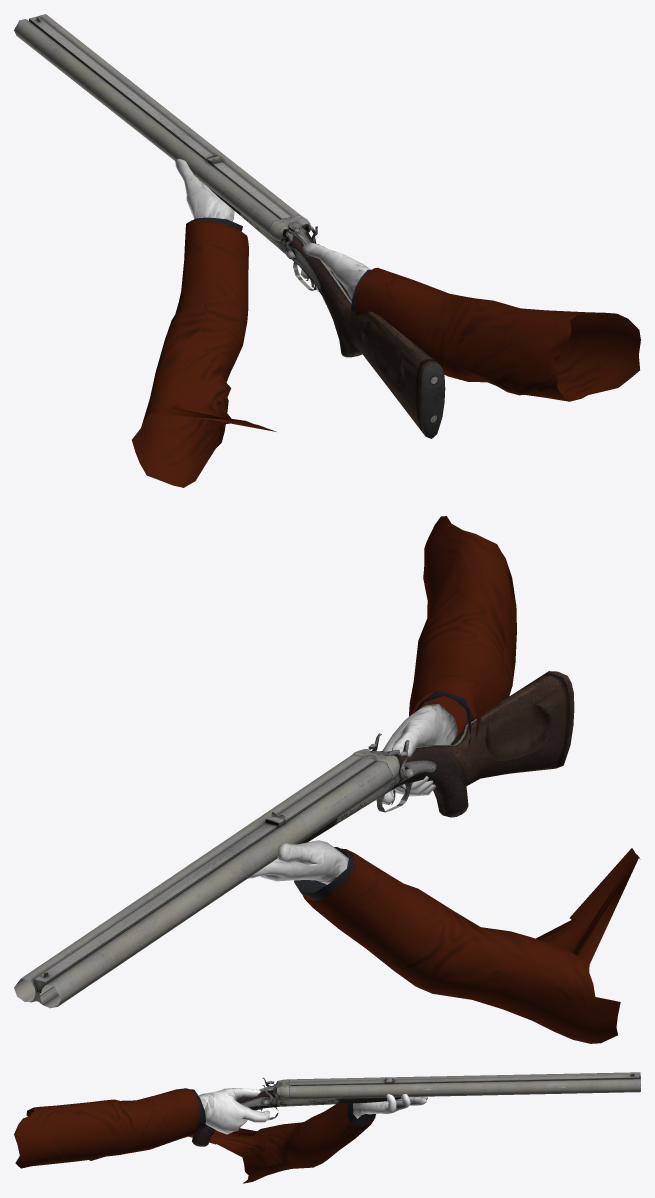
File: frame_8.obj
The picture shows the model from 3 angles, top to bottom: view 1: azimuth 30°, elevation 25°; view 2: azimuth 150°, elevation 25°; view 3: azimuth 270°, elevation 25°; orthographic projection. The views are drawn at different scales.
Visible parts, largest first — view 1: PlayerModelMerged.001_PlayerModelMerged, double_-_barreled_shotgun_L_double_-_barreled_shotgun_LP_к.001; view 2: PlayerModelMerged.001_PlayerModelMerged, double_-_barreled_shotgun_L_double_-_barreled_shotgun_LP_к.001; view 3: PlayerModelMerged.001_PlayerModelMerged, double_-_barreled_shotgun_L_double_-_barreled_shotgun_LP_к.001.
Boxes of the visible parts, x1,y1,x2,y2 form: PlayerModelMerged.001_PlayerModelMerged: [132, 158, 640, 487]; double_-_barreled_shotgun_L_double_-_barreled_shotgun_LP_к.001: [14, 14, 445, 438]; PlayerModelMerged.001_PlayerModelMerged: [248, 516, 640, 1043]; double_-_barreled_shotgun_L_double_-_barreled_shotgun_LP_к.001: [14, 671, 574, 1008]; PlayerModelMerged.001_PlayerModelMerged: [14, 1088, 427, 1183]; double_-_barreled_shotgun_L_double_-_barreled_shotgun_LP_к.001: [89, 1072, 640, 1160].
Bounding box in the file's own units: 0.8331 × 0.5476 × 2.
